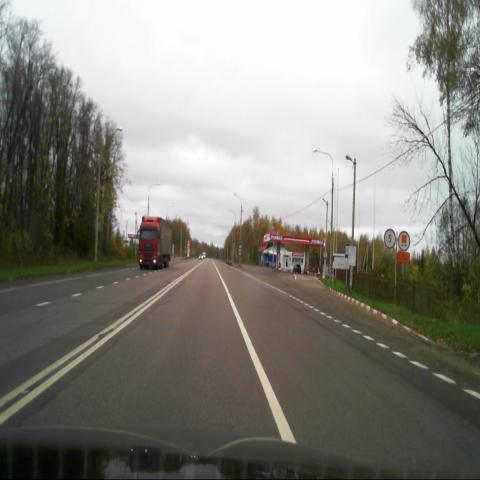3_32: (398, 231, 410, 251)
